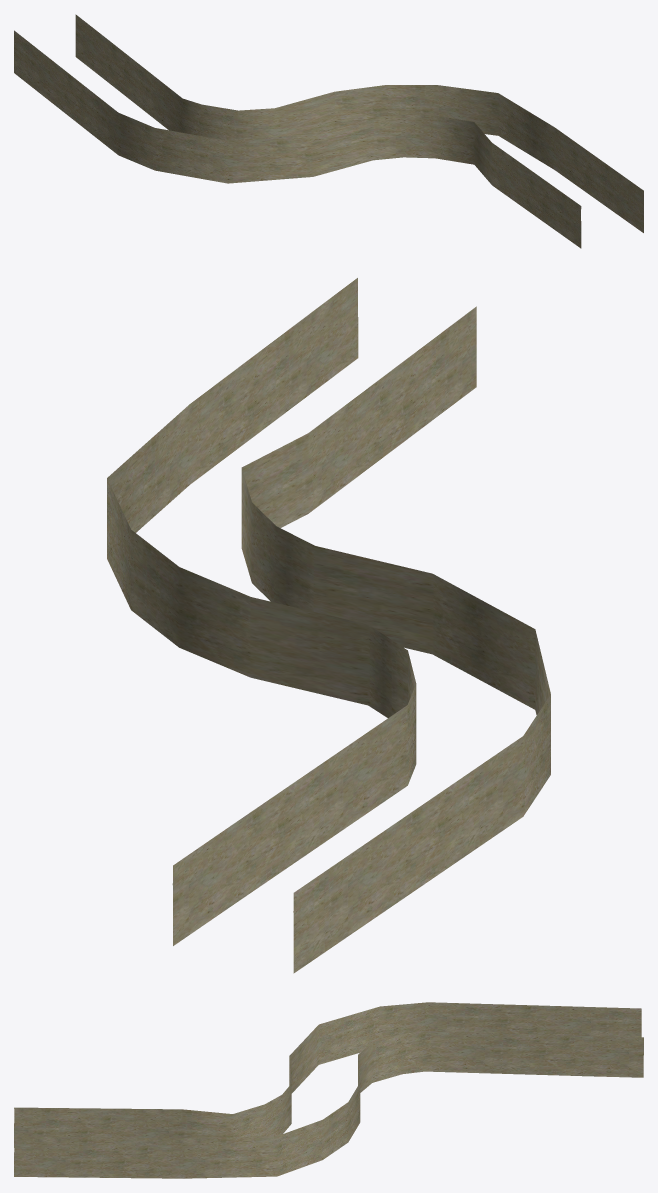
The model's file is CH09_SMAUG_PLAYSURFACE_LAIR108.fbx.
3 renders of one model, top to bottom at view 1: azimuth 30°, elevation 25°; view 2: azimuth 150°, elevation 25°; view 3: azimuth 270°, elevation 25°, orthographic. The views are drawn at different scales.
Visible parts, largest first — view 1: CH09_SMAUG_PLAYSURFACE_LAIR108; view 2: CH09_SMAUG_PLAYSURFACE_LAIR108; view 3: CH09_SMAUG_PLAYSURFACE_LAIR108.
Part boxes in pixels (x1,y1,x2,y2): CH09_SMAUG_PLAYSURFACE_LAIR108: [14, 14, 643, 248]; CH09_SMAUG_PLAYSURFACE_LAIR108: [107, 278, 550, 973]; CH09_SMAUG_PLAYSURFACE_LAIR108: [14, 1002, 643, 1178].
Size of the model in its own units: 192661 by 31655 by 362948.
1 material, 1 textured.
